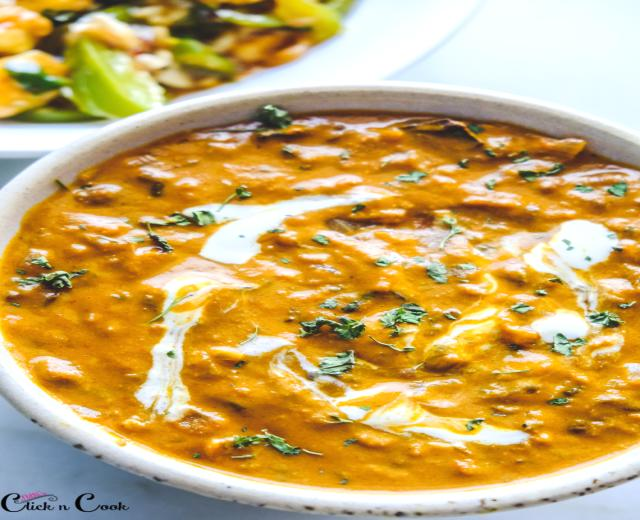dal makhni: (0, 110, 639, 492)
